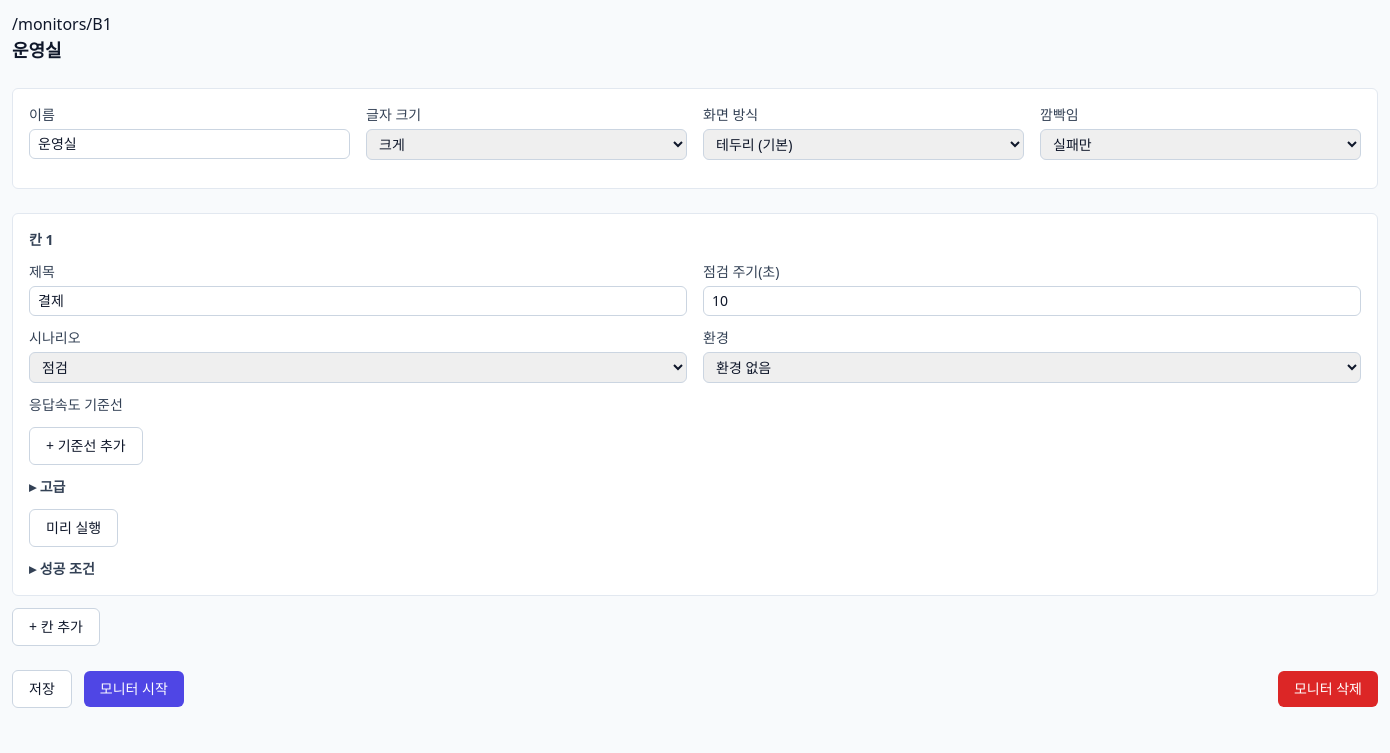
MonitorEditPage › preview_without_trace_shows_notice
The width and height of the screenshot is (1390, 753).
Click the button "미리 실행" at (74, 528), box [29,509,118,547]
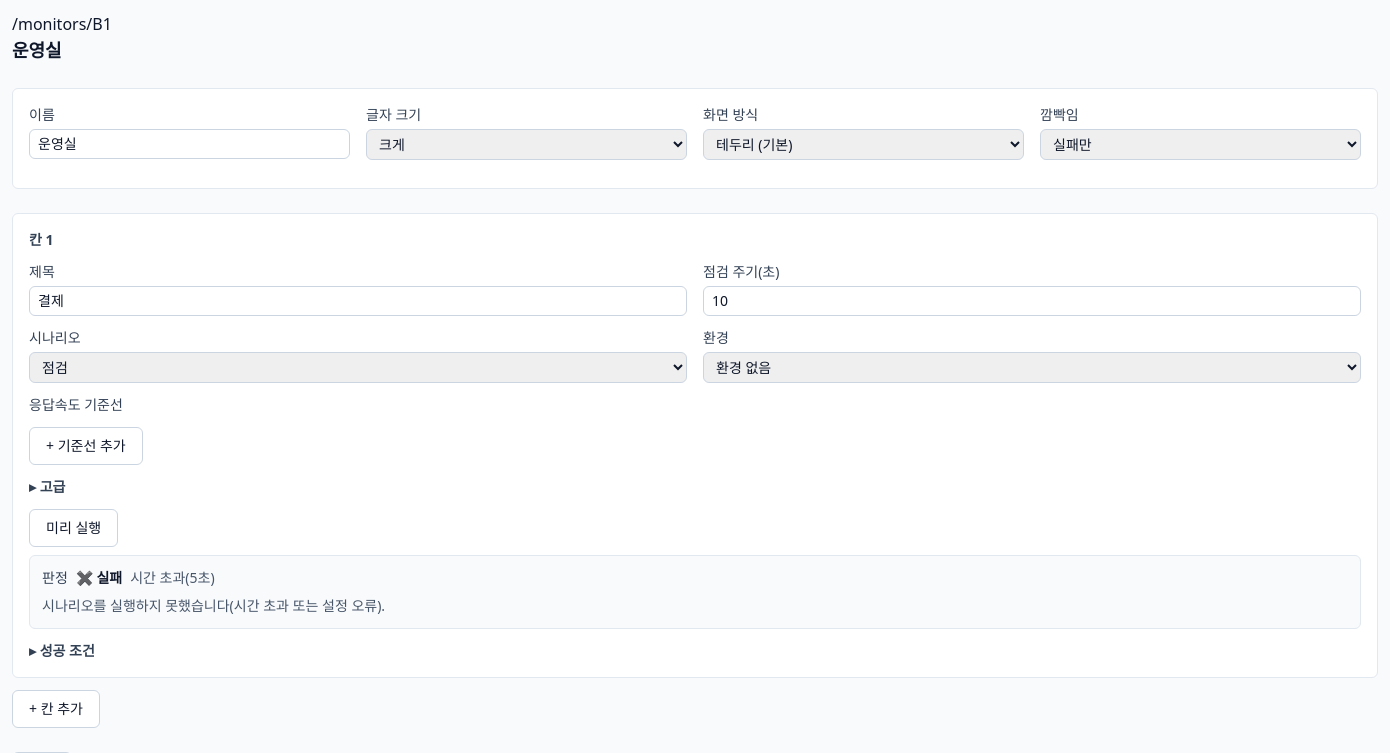
Result: the text "시나리오를 실행하지 못했습니다(시간 초과 또는 설정 오류)." is shown at [42,596,385,615]
Result: the text "시간 초과(5초)" is shown at [130,568,215,588]
